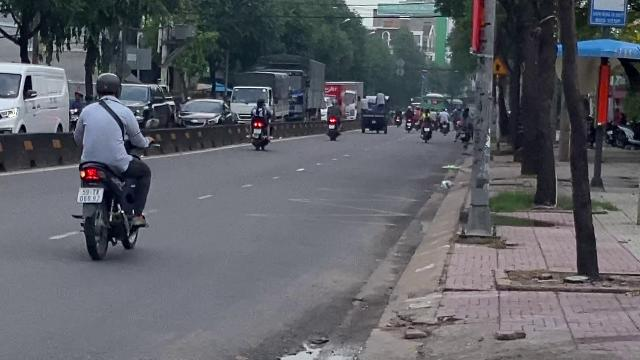helmet: (94, 72, 122, 100)
licenseplate: (78, 187, 102, 202)
motorcyclist: (69, 70, 153, 260)
